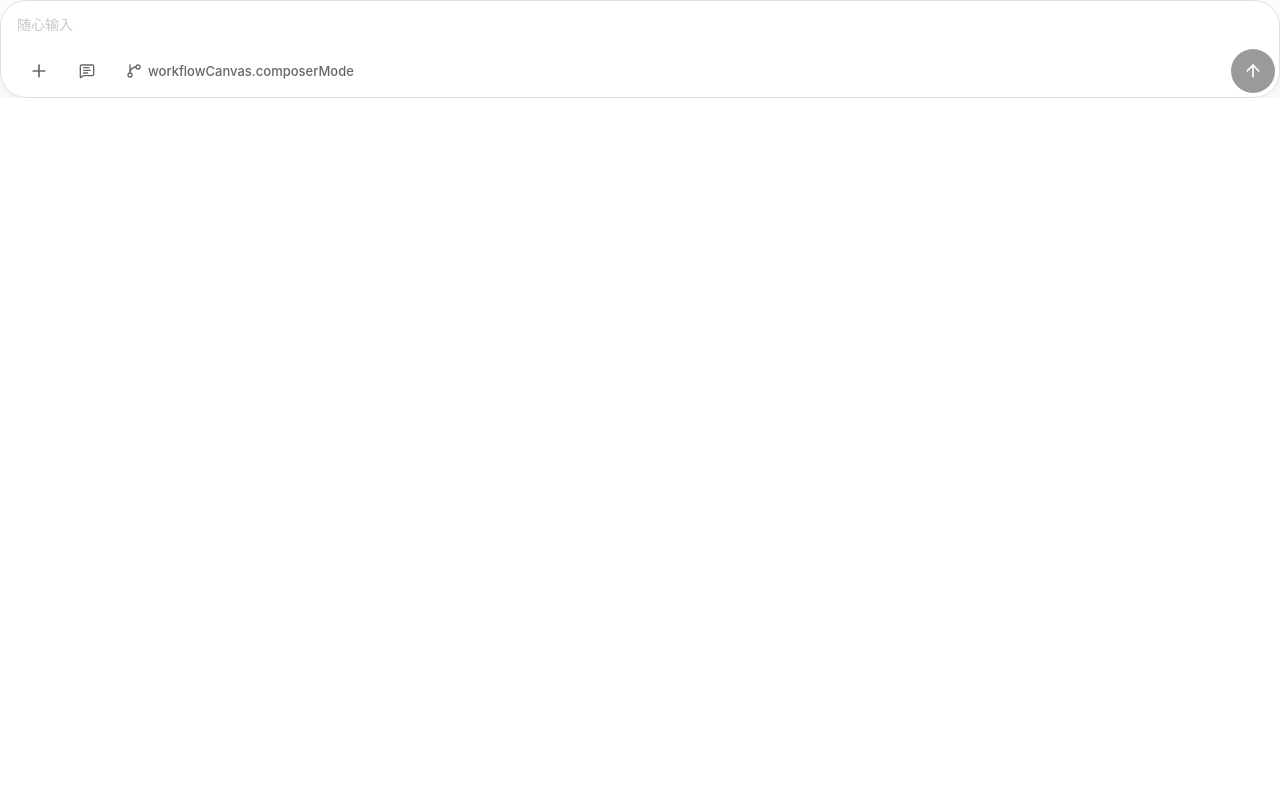
Scenario: ChatInput composer › opens the compact context sheet with plan and goal actions
The width and height of the screenshot is (1280, 800).
Click the button with test id "add-context-button": {"x": 39, "y": 71} left=17, top=49, right=61, bottom=93
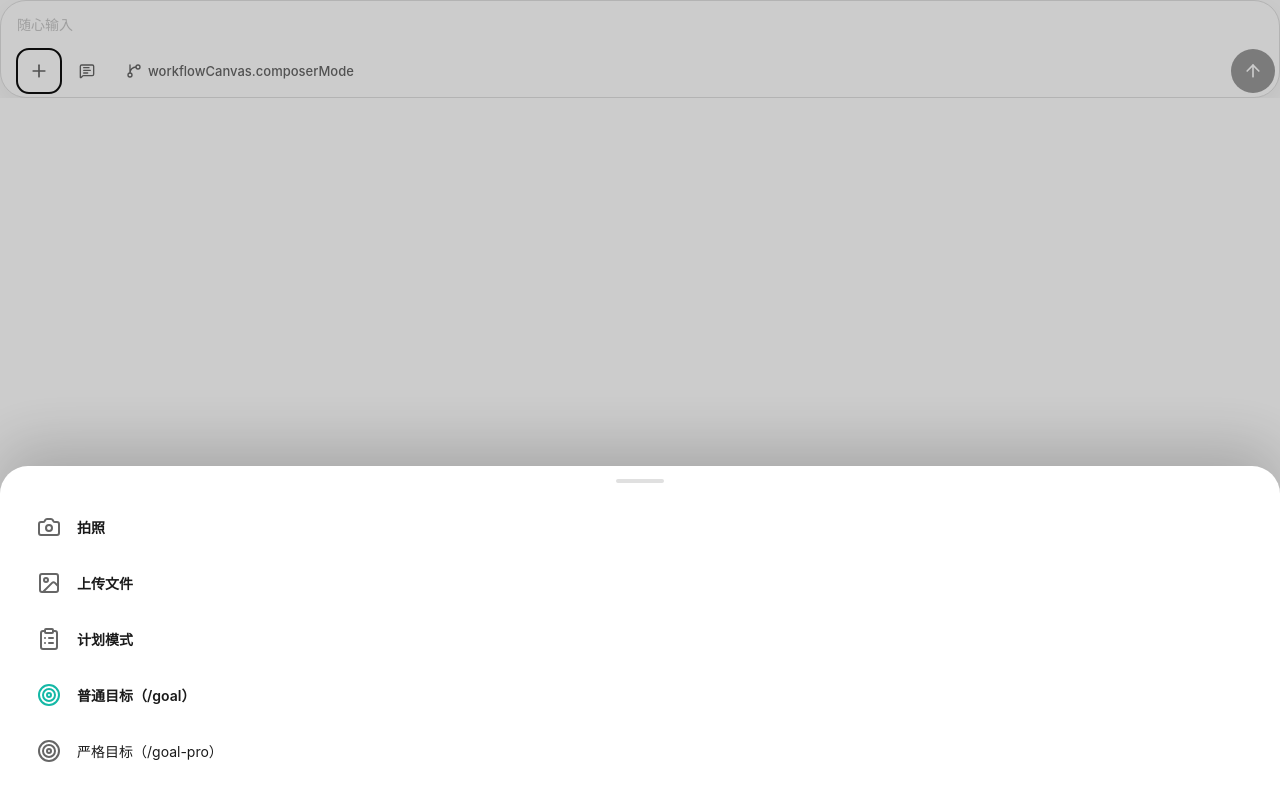
Result: the element with test id "mobile-context-sheet" is shown at left=0, top=466, right=1279, bottom=799
Result: the button with test id "mobile-set-plan-mode-button" reads "计划模式"
Result: the button with test id "mobile-set-goal-button" reads "普通目标（/goal）" at left=21, top=667, right=1259, bottom=723
Click the button with test id "mobile-set-plan-mode-button": {"x": 105, "y": 639} left=21, top=611, right=1259, bottom=667
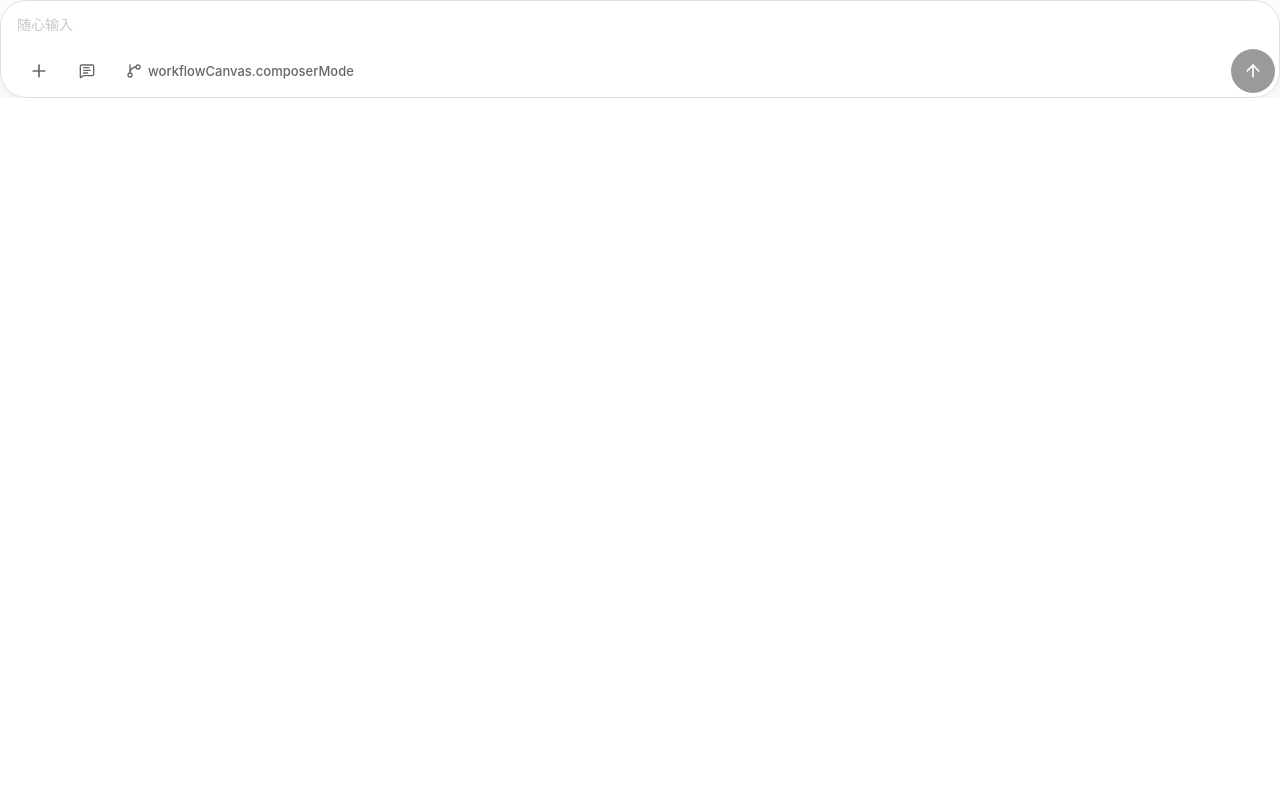
Result: the element with test id "mobile-context-sheet" is gone
Click the button with test id "add-context-button": {"x": 39, "y": 71} left=17, top=49, right=61, bottom=93
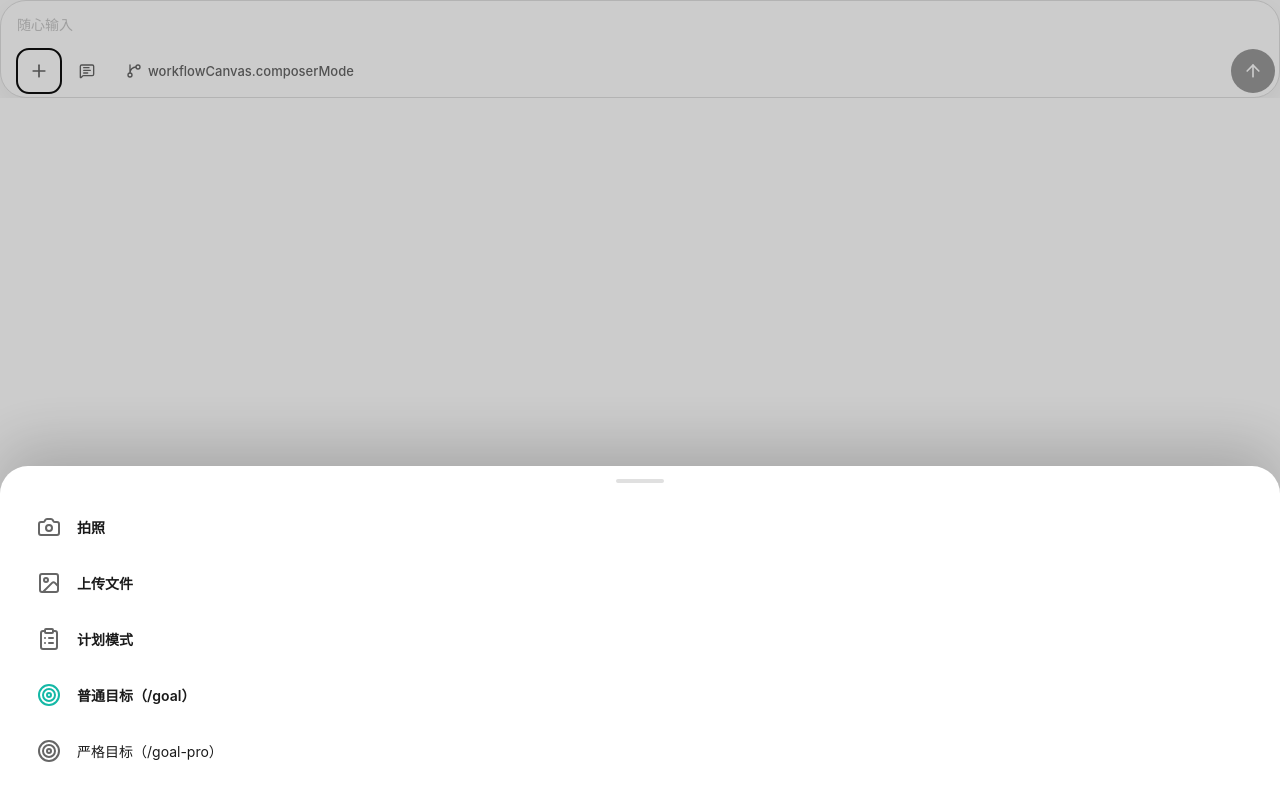
Click the button with test id "mobile-set-goal-button": {"x": 136, "y": 695} left=21, top=667, right=1259, bottom=723
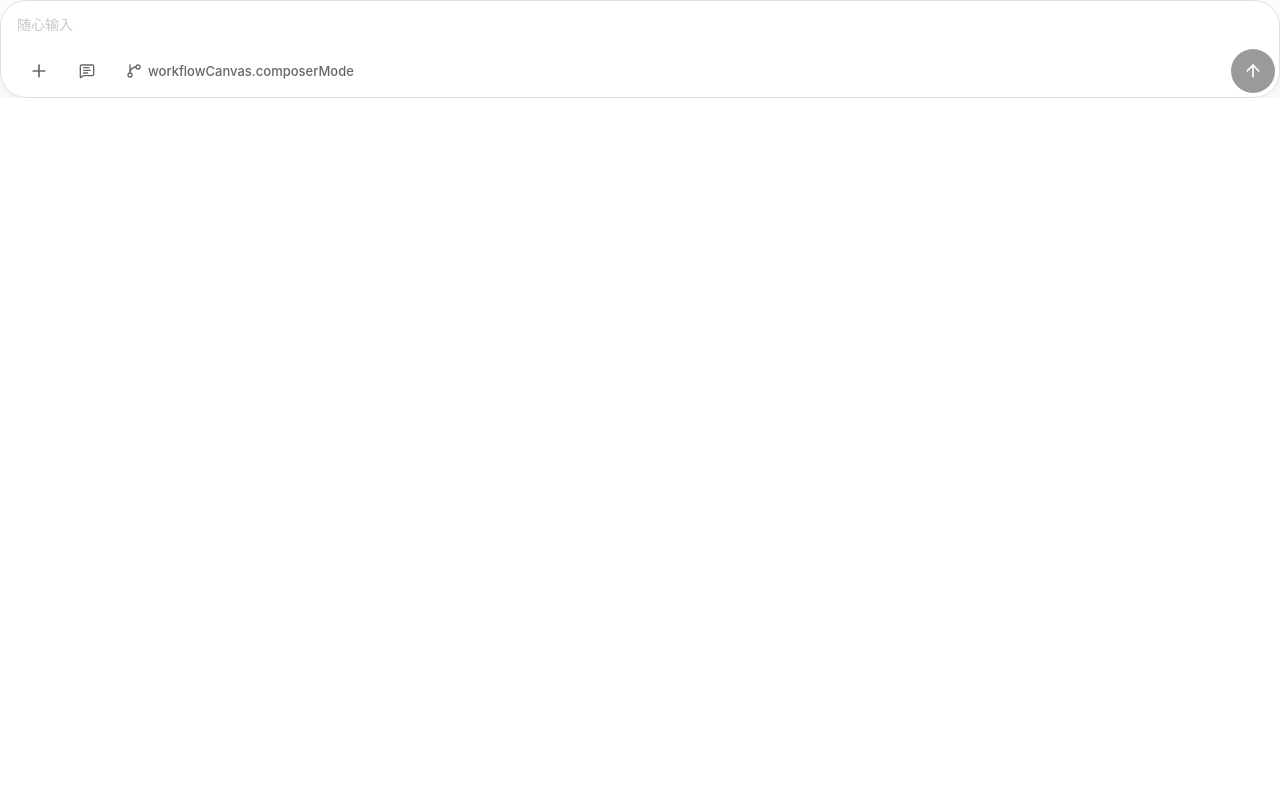
Click the button with test id "add-context-button": {"x": 39, "y": 71} left=17, top=49, right=61, bottom=93
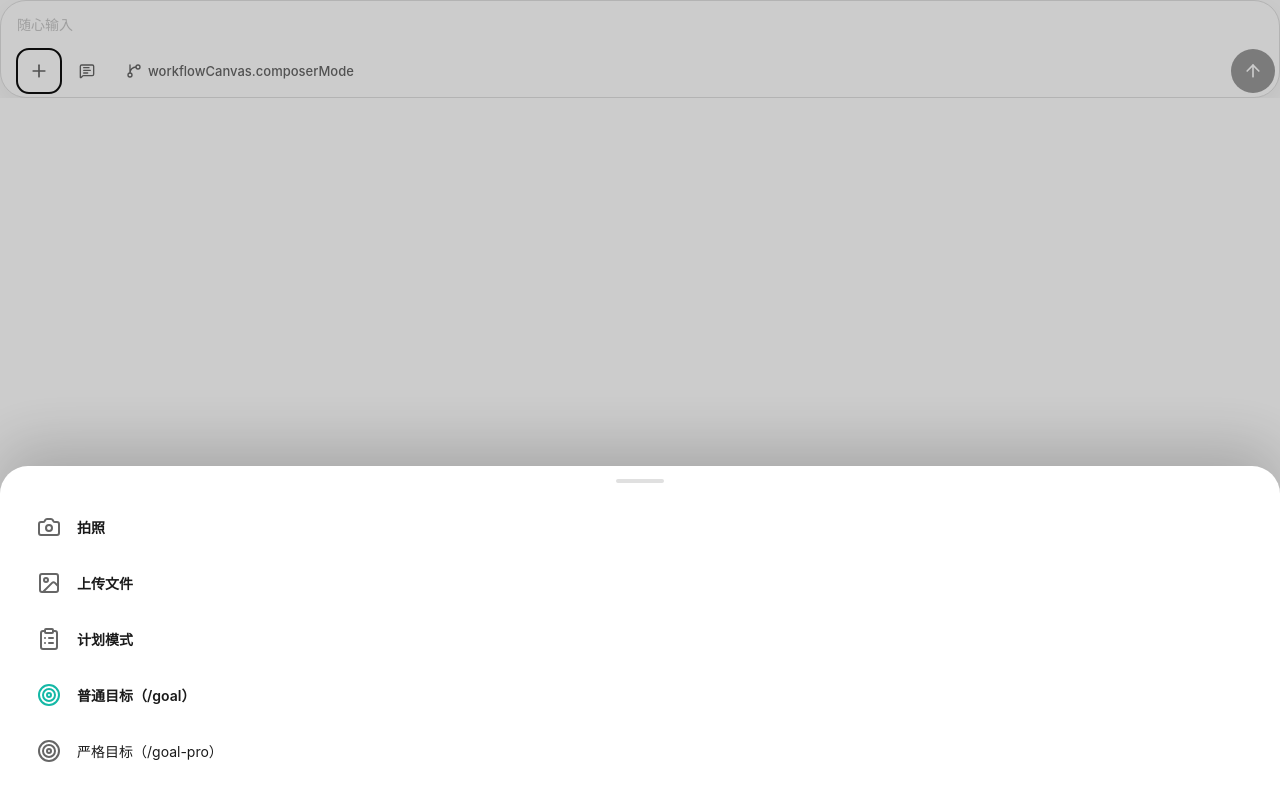
Click the button with test id "mobile-set-goal-pro-button": {"x": 150, "y": 751} left=21, top=723, right=1259, bottom=779
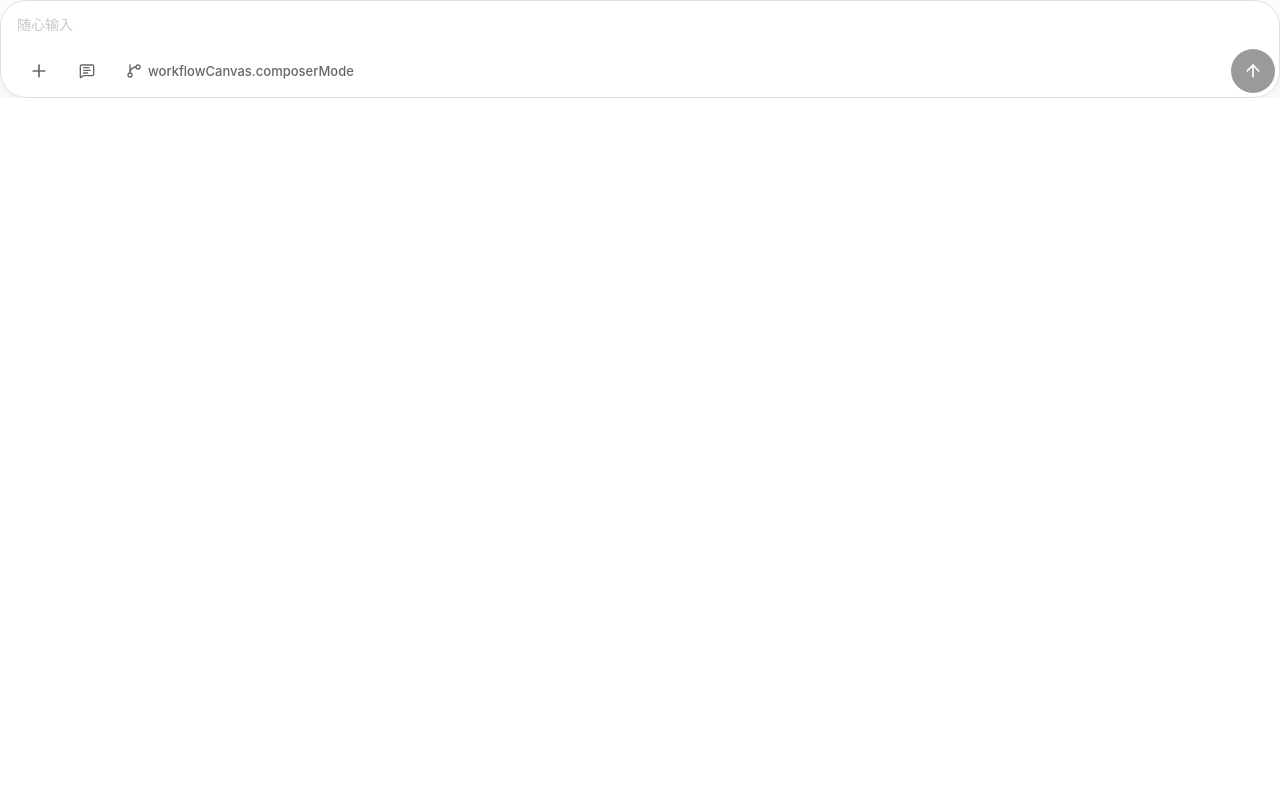
Result: the element with test id "mobile-context-sheet" is gone
